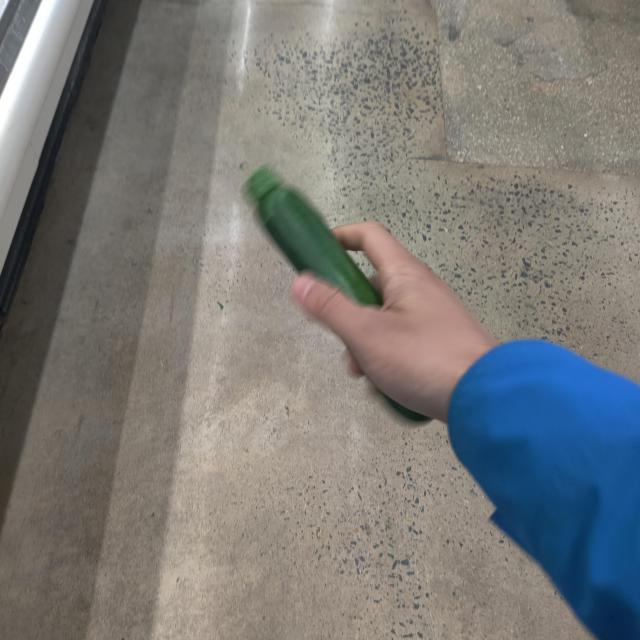Meat: (245, 163, 440, 425)
